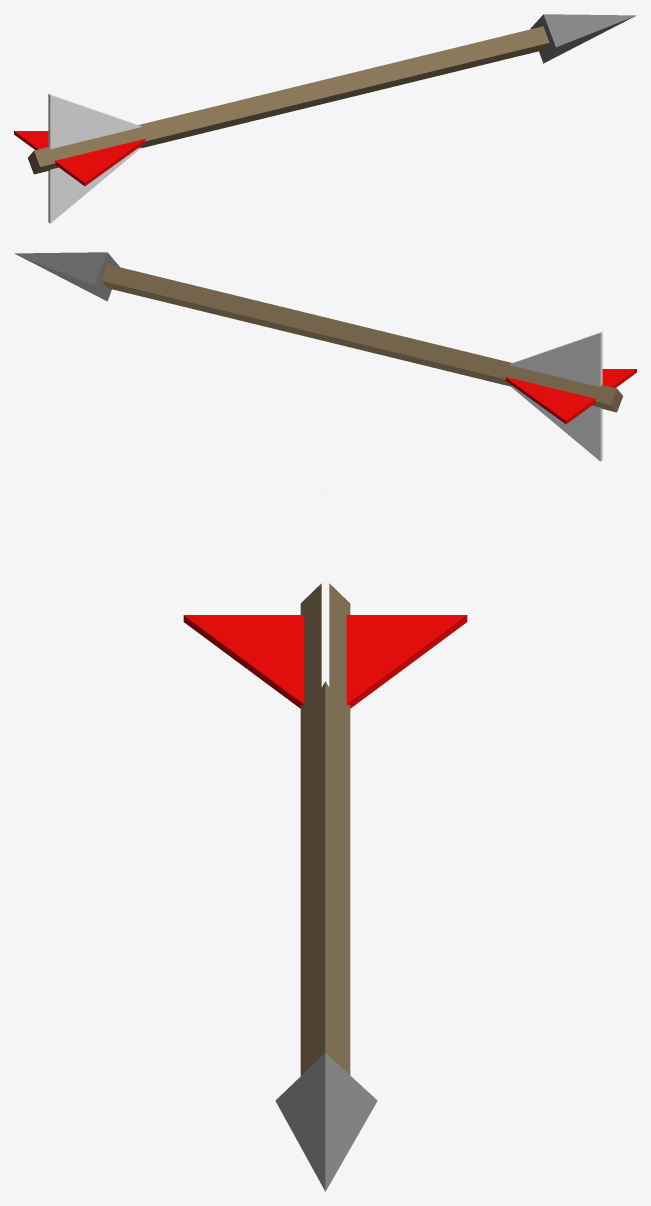
File: arrowProjectile_001.fbx
The picture shows the model from 3 angles, top to bottom: view 1: azimuth 30°, elevation 25°; view 2: azimuth 150°, elevation 25°; view 3: azimuth 270°, elevation 25°; orthographic projection. The views are drawn at different scales.
Parts seen in each view (by area): view 1: polySurface1; view 2: polySurface1; view 3: polySurface1.
Part boxes in pixels (bbox=[...]): polySurface1: bbox=[14, 14, 636, 223]; polySurface1: bbox=[14, 252, 636, 461]; polySurface1: bbox=[183, 490, 467, 1191].
Bounding box in the file's own units: 2.08 × 0.4237 × 0.4237.
